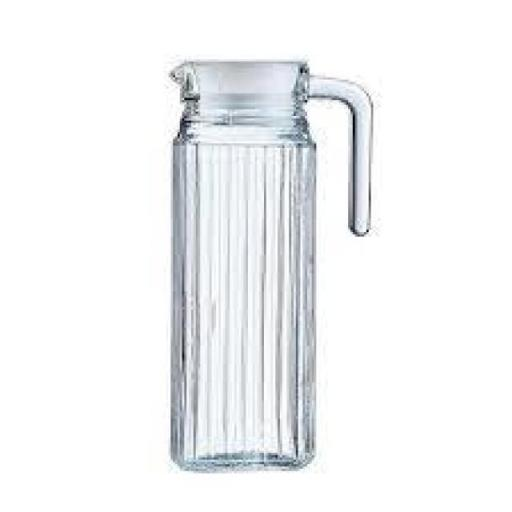glass: (150, 52, 376, 484)
